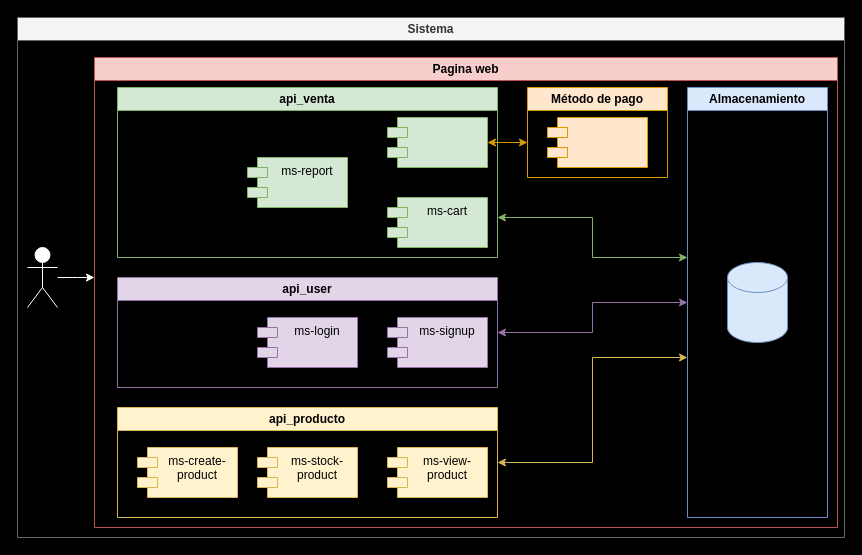
Some shapes in this 862 by 555 pixel diagram are drawn without their labels. Here are the shapes that lost their labels. From the top down, the centre of each, then its label:
At [437,142]: "ms-pay".
At [597,142]: "ms-webpay".
At [42,277]: "Cliente".
At [757,302]: "BD".
